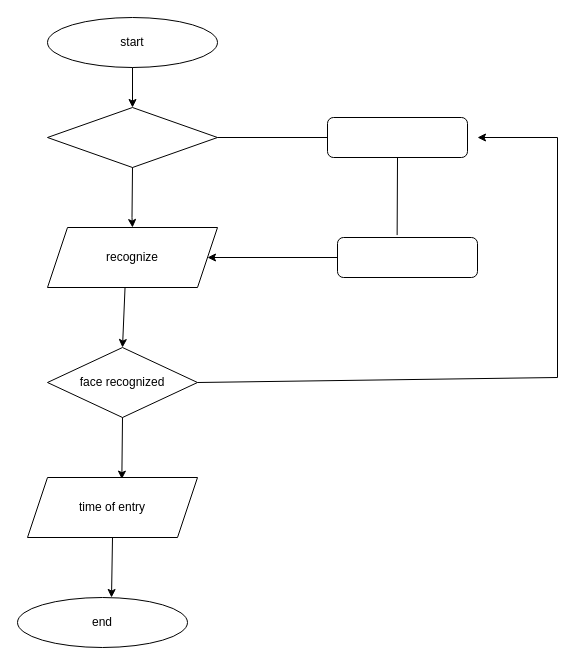
Some shapes in this 583 by 665 pixel diagram are drawn without their labels. Each missing label, with the box of its shape:
give your photograph: (326, 116, 468, 158)
new user: (46, 106, 218, 168)
store the face datain foldef: (336, 236, 478, 278)
